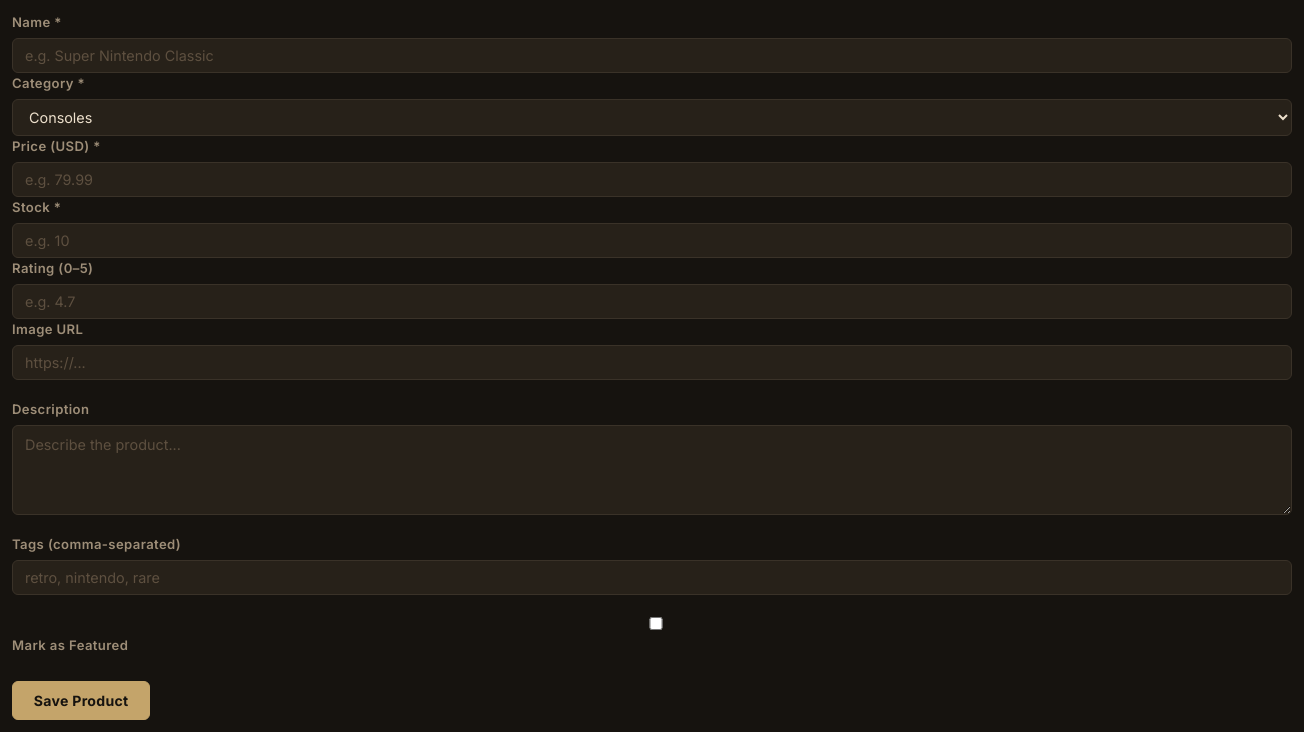
ProductForm › shows a validation error when required fields are empty
Click the button "Save Product" at (81, 700), box [12,681,150,720]
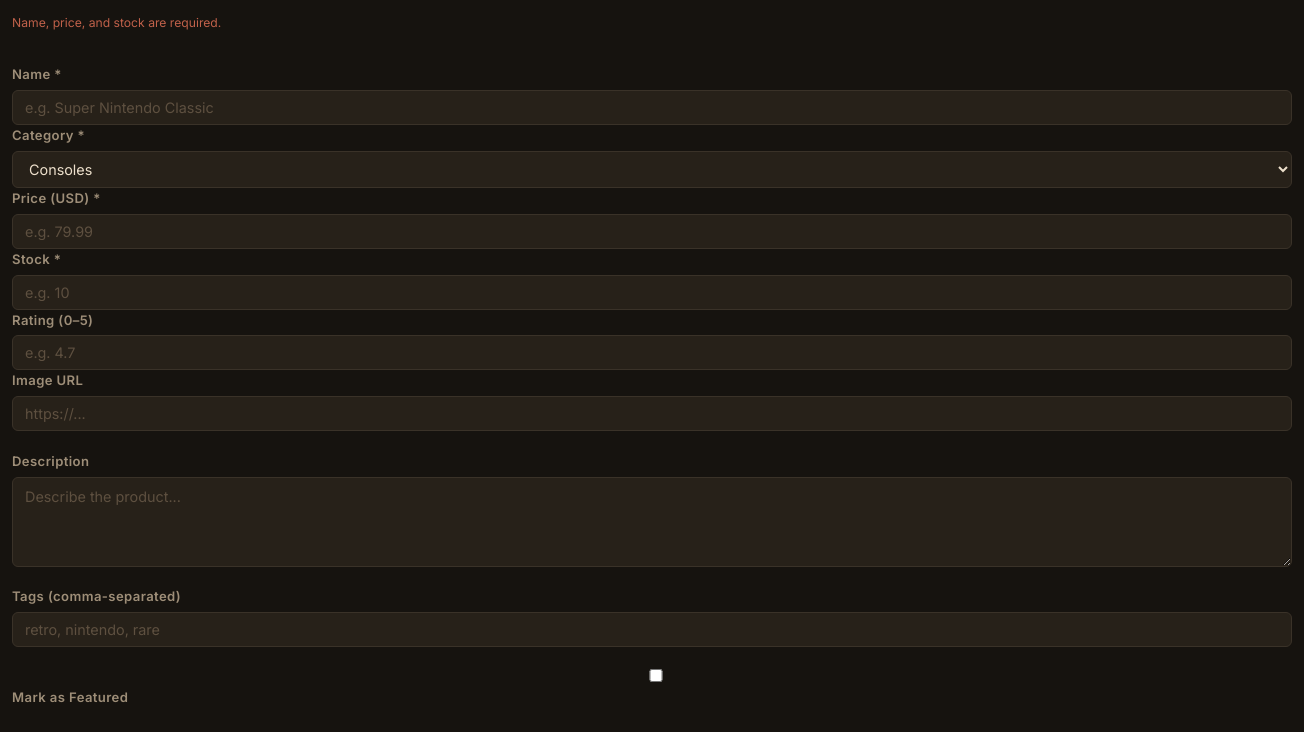
Expected: the text "Name, price, and stock are required." is shown, [12,15,221,30]
